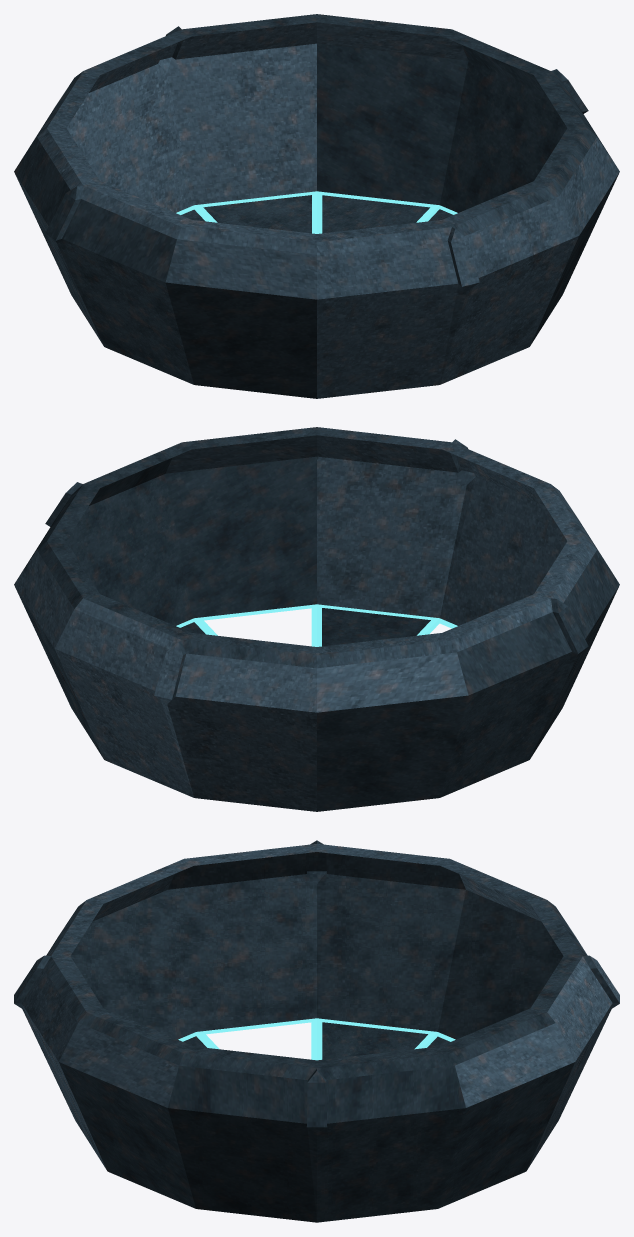
The model's file is base_nave02.glb.
3 renders of one model, top to bottom at view 1: azimuth 30°, elevation 25°; view 2: azimuth 150°, elevation 25°; view 3: azimuth 270°, elevation 25°, orthographic.
Visible parts, largest first — view 1: Dome_Collar; view 2: Dome_Collar; view 3: Dome_Collar.
Boxes of the visible parts, <box> form: Dome_Collar: <box>14,14,619,398</box>; Dome_Collar: <box>14,427,619,811</box>; Dome_Collar: <box>14,840,619,1222</box>.
Size of the model in its own units: 9.77 by 3.32 by 9.77.
2 materials, 1 textured.
